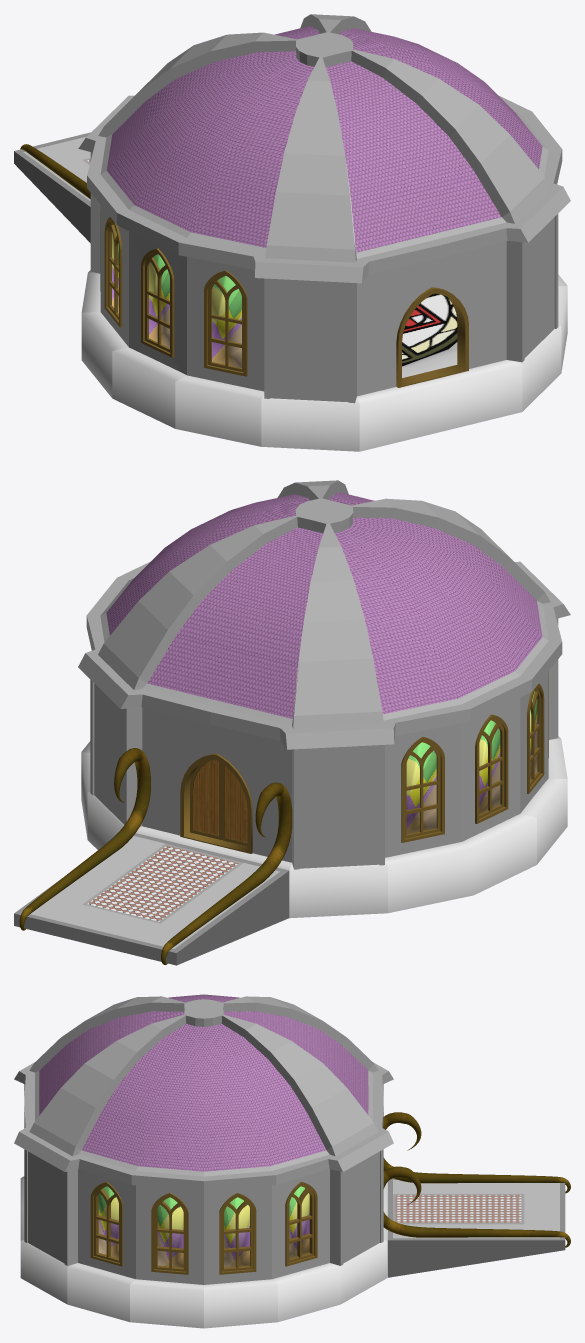
File: ArenaBuilding.fbx
3 views of the same model, one above another, from view 1: azimuth 30°, elevation 25°; view 2: azimuth 150°, elevation 25°; view 3: azimuth 270°, elevation 25° (orthographic). The views are drawn at different scales.
Parts seen in each view (by area): view 1: ArenaWalls, ArenaWalls_GlassRoof4, ArenaWalls_GlassRoof3, ArenaGroundBorder.001, ArenaWalls_GlassRoof2, ArenaGroundBorder.003, ArenaGroundBorder.004, ArenaGroundBorder.002, ArenaWindow.015, ArenaGroundBorder.017, ArenaGroundBorder.005, ArenaWindow.011 (+8 smaller); view 2: ArenaWalls, ArenaWalls_GlassRoof4, ArenaGroundBorder.017, ArenaWalls_GlassRoof1, BezierCurve.001, ArenaWalls_GlassRoof2, ArenaGroundBorder.008, ArenaGroundBorder.007, ArenaWindow.002, ArenaGroundBorder.006, ArenaWindow.007, ArenaDoor_SideA (+8 smaller); view 3: ArenaWalls, ArenaWalls_GlassRoof2, ArenaGroundBorder.017, BezierCurve.001, ArenaWalls_GlassRoof1, ArenaWalls_GlassRoof3, ArenaGroundBorder.013, ArenaGroundBorder.014, ArenaWindow.004, ArenaGroundBorder.012, ArenaGroundBorder.015, ArenaWindow.008 (+4 smaller).
Part boxes in pixels (x1,y1,x2,y2): ArenaWalls: [78, 14, 570, 403]; ArenaWalls_GlassRoof4: [106, 51, 314, 247]; ArenaWalls_GlassRoof3: [326, 61, 501, 252]; ArenaGroundBorder.001: [403, 348, 522, 431]; ArenaWalls_GlassRoof2: [339, 28, 542, 169]; ArenaGroundBorder.003: [261, 395, 359, 451]; ArenaGroundBorder.004: [175, 375, 264, 446]; ArenaGroundBorder.002: [357, 366, 440, 451]; ArenaWindow.015: [204, 270, 247, 376]; ArenaGroundBorder.017: [14, 132, 90, 242]; ArenaGroundBorder.005: [112, 347, 186, 428]; ArenaWindow.011: [141, 248, 174, 357]; ArenaWalls: [78, 480, 570, 869]; ArenaWalls_GlassRoof4: [334, 517, 542, 714]; ArenaGroundBorder.017: [14, 833, 289, 965]; ArenaWalls_GlassRoof1: [147, 527, 323, 718]; BezierCurve.001: [19, 748, 292, 964]; ArenaWalls_GlassRoof2: [106, 494, 309, 635]; ArenaGroundBorder.008: [289, 862, 387, 918]; ArenaGroundBorder.007: [385, 842, 473, 913]; ArenaWindow.002: [401, 736, 444, 842]; ArenaGroundBorder.006: [462, 814, 536, 894]; ArenaWindow.007: [475, 714, 508, 823]; ArenaDoor_SideA: [190, 759, 221, 839]; ArenaWalls: [14, 996, 393, 1284]; ArenaWalls_GlassRoof2: [82, 1024, 325, 1171]; ArenaGroundBorder.017: [387, 1178, 565, 1277]; BezierCurve.001: [383, 1112, 570, 1247]; ArenaWalls_GlassRoof1: [223, 1011, 368, 1114]; ArenaWalls_GlassRoof3: [39, 1011, 184, 1115]; ArenaGroundBorder.013: [204, 1279, 277, 1328]; ArenaGroundBorder.014: [130, 1279, 203, 1328]; ArenaWindow.004: [151, 1193, 188, 1274]; ArenaGroundBorder.012: [272, 1263, 340, 1321]; ArenaGroundBorder.015: [67, 1263, 135, 1321]; ArenaWindow.008: [219, 1193, 256, 1274].
Size of the model in its own units: 71.4 by 103 by 48.5.
